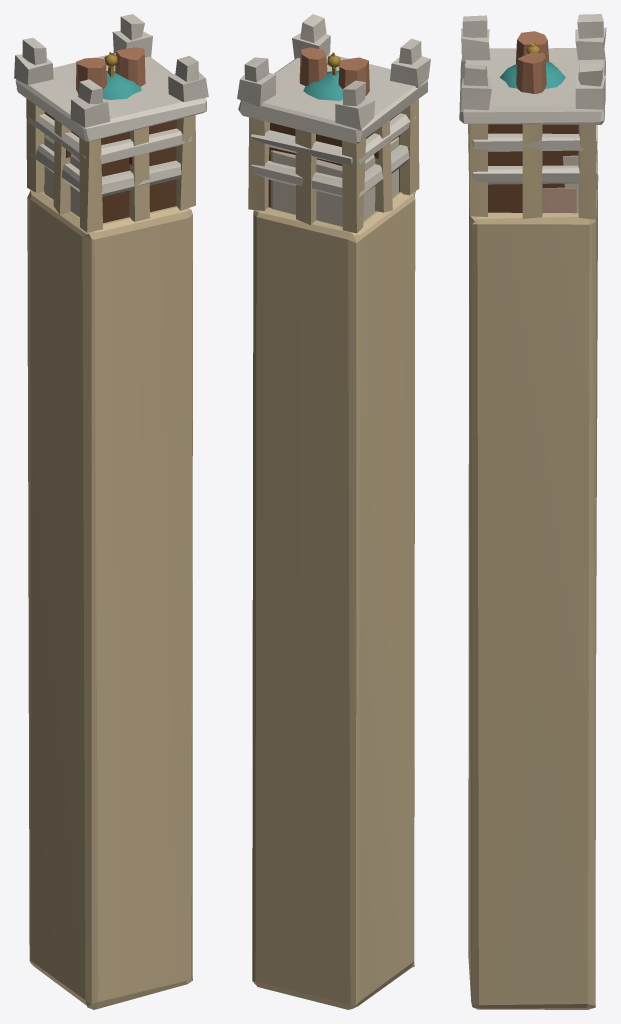
The model's file is chimney.glb.
The picture shows the model from 3 angles, left to right: view 1: azimuth 30°, elevation 25°; view 2: azimuth 150°, elevation 25°; view 3: azimuth 270°, elevation 25°; orthographic projection. The views are drawn at different scales.
Parts seen in each view (by area): view 1: chimney.v0.mesh, chimney.v2.mesh, chimney.v1.mesh; view 2: chimney.v0.mesh, chimney.v2.mesh, chimney.v1.mesh; view 3: chimney.v0.mesh, chimney.v2.mesh, chimney.v1.mesh.
Boxes of the visible parts, x1,y1,x2,y2 form: chimney.v0.mesh: (14,14,208,1009); chimney.v2.mesh: (28,47,191,217); chimney.v1.mesh: (29,52,181,196); chimney.v0.mesh: (237,14,430,1009); chimney.v2.mesh: (251,47,416,226); chimney.v1.mesh: (251,52,409,197); chimney.v0.mesh: (459,14,606,1009); chimney.v2.mesh: (468,31,597,212); chimney.v1.mesh: (472,42,597,213).
Size of the model in its own units: 0.5135 by 3.63 by 0.5121.
